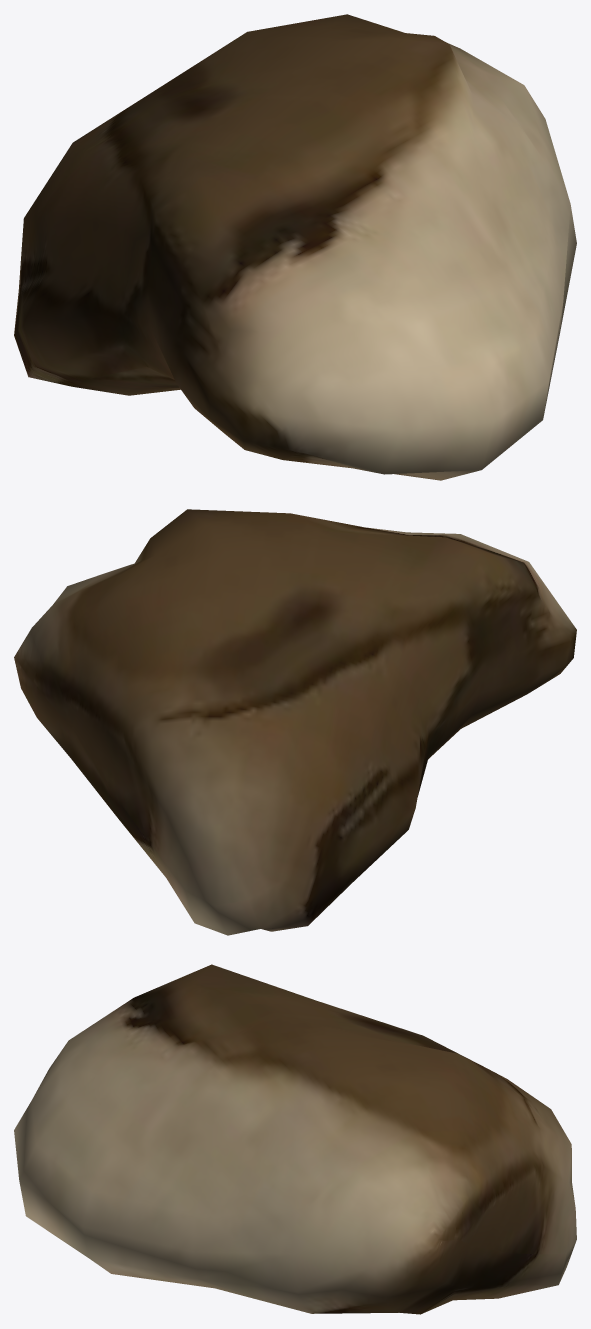
Rendered from Distal_Carpal_II.glb.
3 views of the same model, one above another, from view 1: azimuth 30°, elevation 25°; view 2: azimuth 150°, elevation 25°; view 3: azimuth 270°, elevation 25° (orthographic). The views are drawn at different scales.
Visible parts, largest first — view 1: Distal_Carpal_II_Right1:Group50524; view 2: Distal_Carpal_II_Right1:Group50524; view 3: Distal_Carpal_II_Right1:Group50524.
Part boxes in pixels (bbox=[...]): Distal_Carpal_II_Right1:Group50524: bbox=[14, 14, 576, 480]; Distal_Carpal_II_Right1:Group50524: bbox=[14, 509, 576, 935]; Distal_Carpal_II_Right1:Group50524: bbox=[14, 964, 576, 1314].
Size of the model in its own units: 7.8 by 5.49 by 9.59.
1 material, 1 textured.
